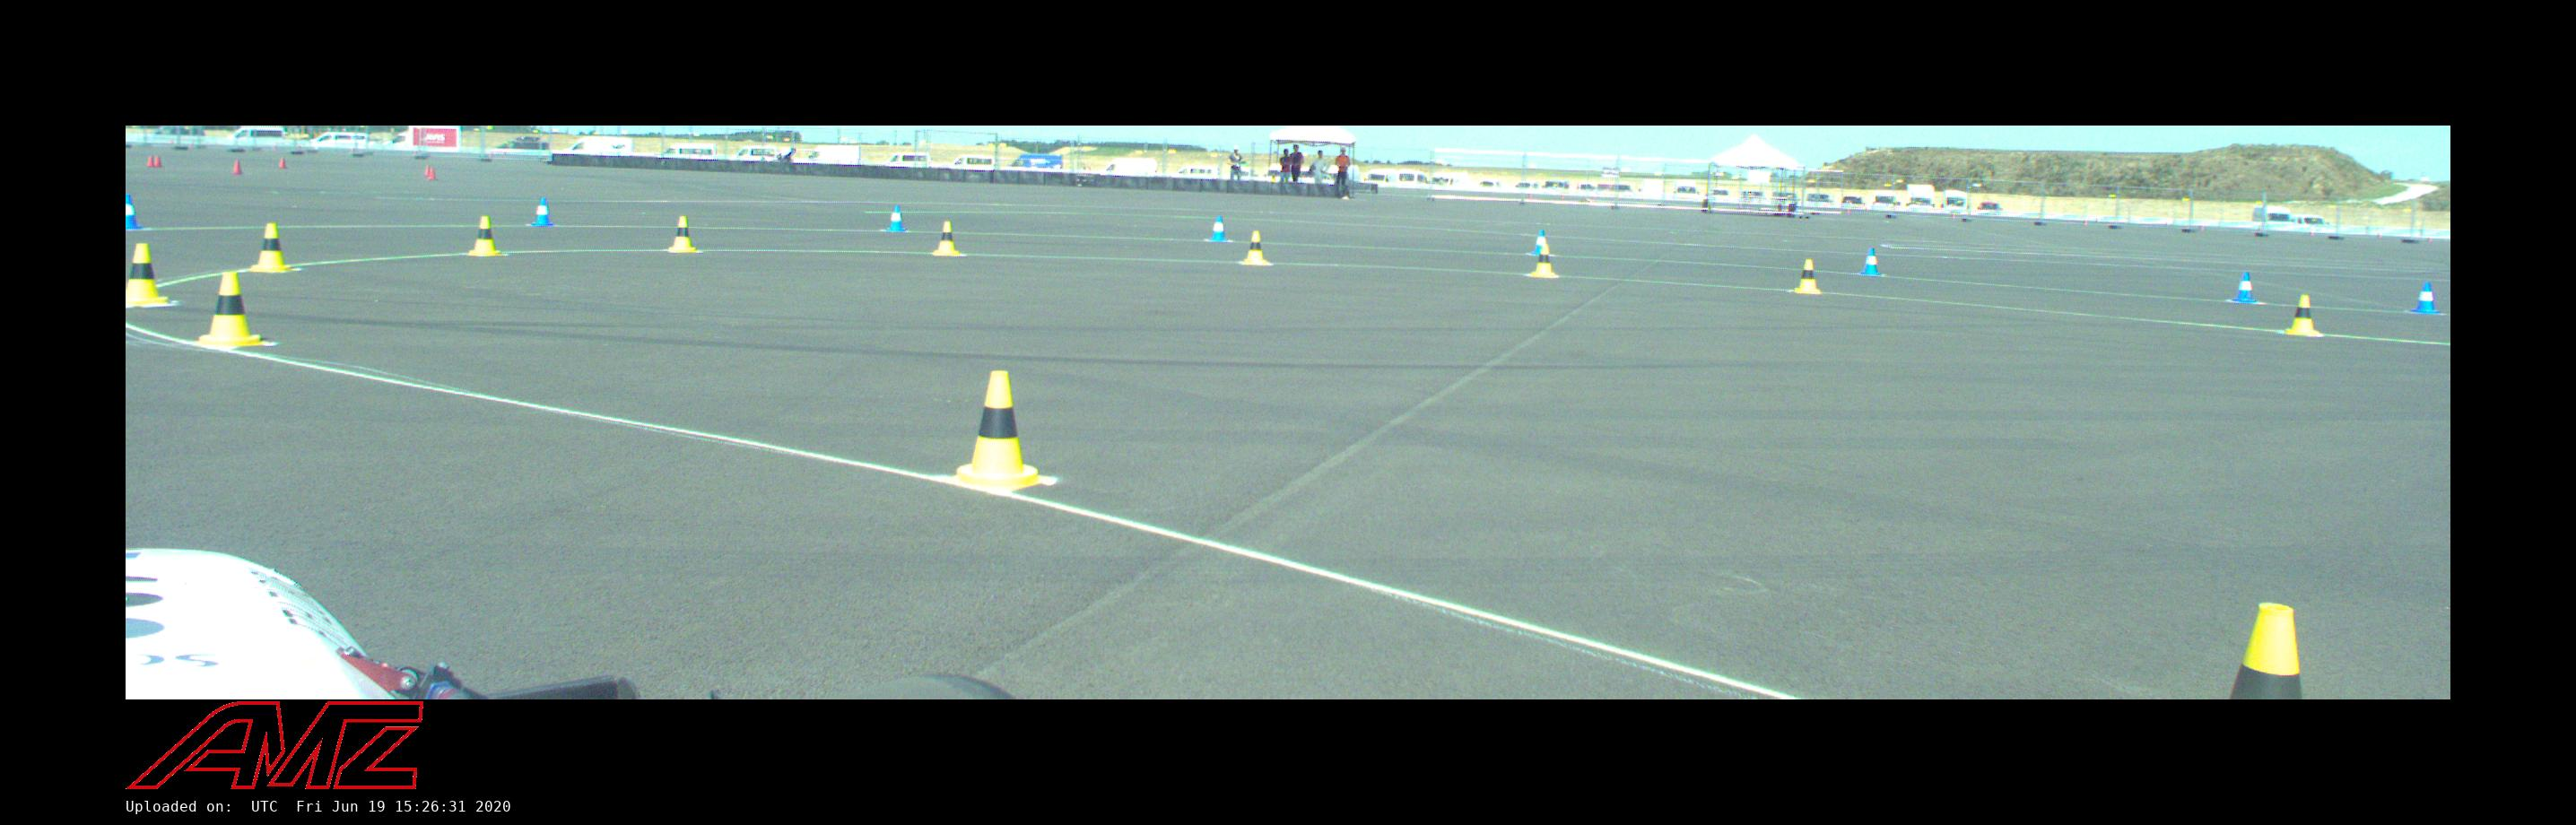blue_cone: (2413, 283, 2438, 312), (2233, 271, 2256, 302), (532, 197, 552, 227), (125, 194, 141, 228), (1861, 248, 1881, 276), (889, 204, 905, 232), (1531, 230, 1549, 255), (1211, 215, 1227, 242)
yellow_cone: (955, 370, 1040, 488), (2228, 605, 2302, 698), (199, 273, 260, 345), (127, 243, 169, 304), (251, 224, 291, 271), (470, 217, 501, 255), (2288, 296, 2316, 335), (932, 220, 959, 255), (669, 217, 697, 251), (1796, 260, 1820, 293), (1531, 245, 1556, 278), (1244, 232, 1267, 265)
